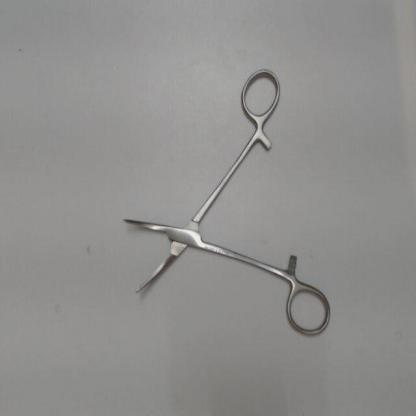Crile Artery Forceps: (113, 61, 336, 342)
